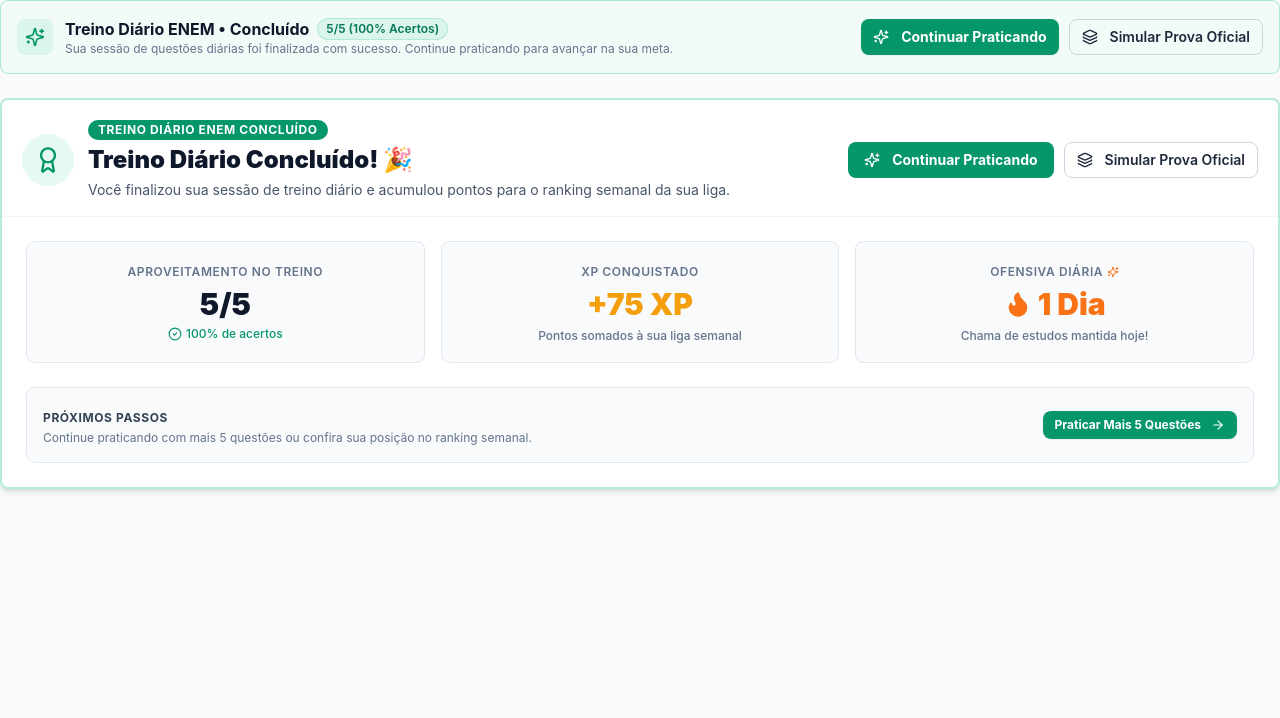
it: PracticeHero Component › renders DailyPracticeSummaryView upon completing Daily Practice questions and preserves diagnostic radar
The width and height of the screenshot is (1280, 718).
Expected: the heading "Questões Diárias do ENEM" is shown, [65,18,448,40]
Expected: the element with test id "daily-practice-summary-view" is shown, [0,98,1279,489]
# Clicking "Continuar Praticando" starts another daily batch
Click the button "Continuar Praticando" in the row of "% Acertos)": (960, 37) [861,19,1059,55]
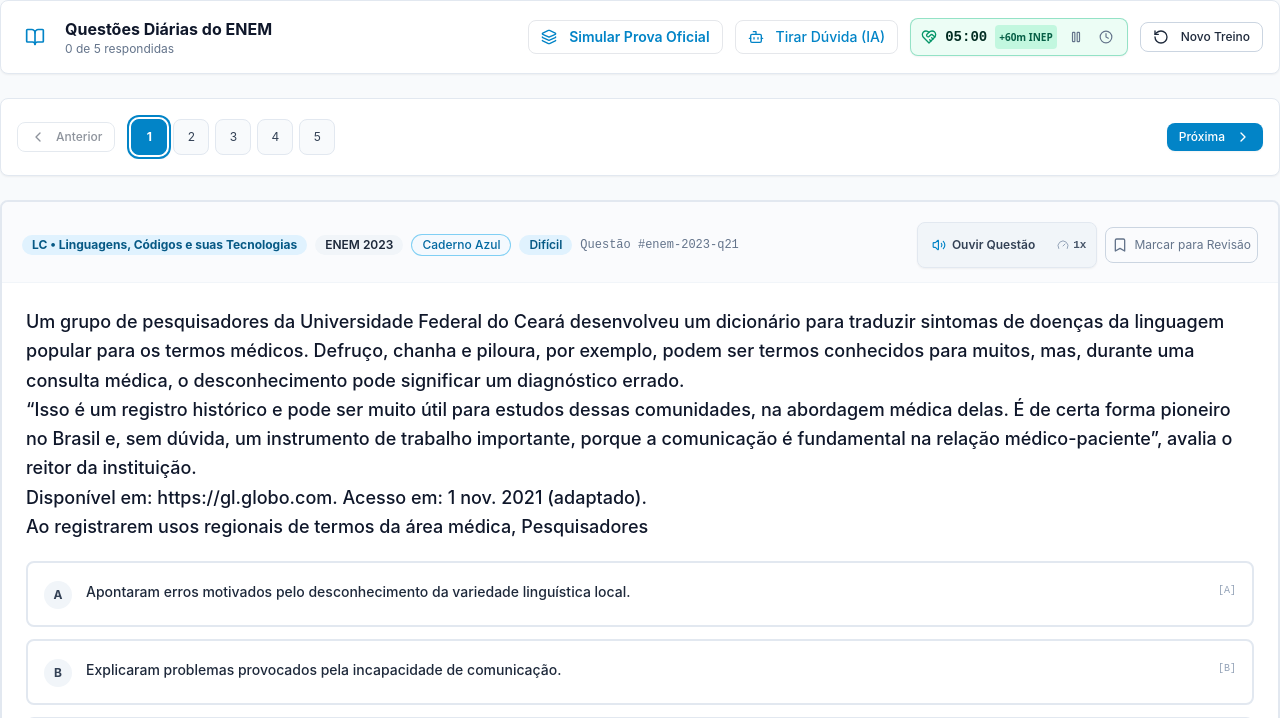
Result: the heading "Questões Diárias do ENEM" is shown at [65,17,272,41]
Result: the text "0 de 5 respondidas" is shown at [65,41,174,57]
